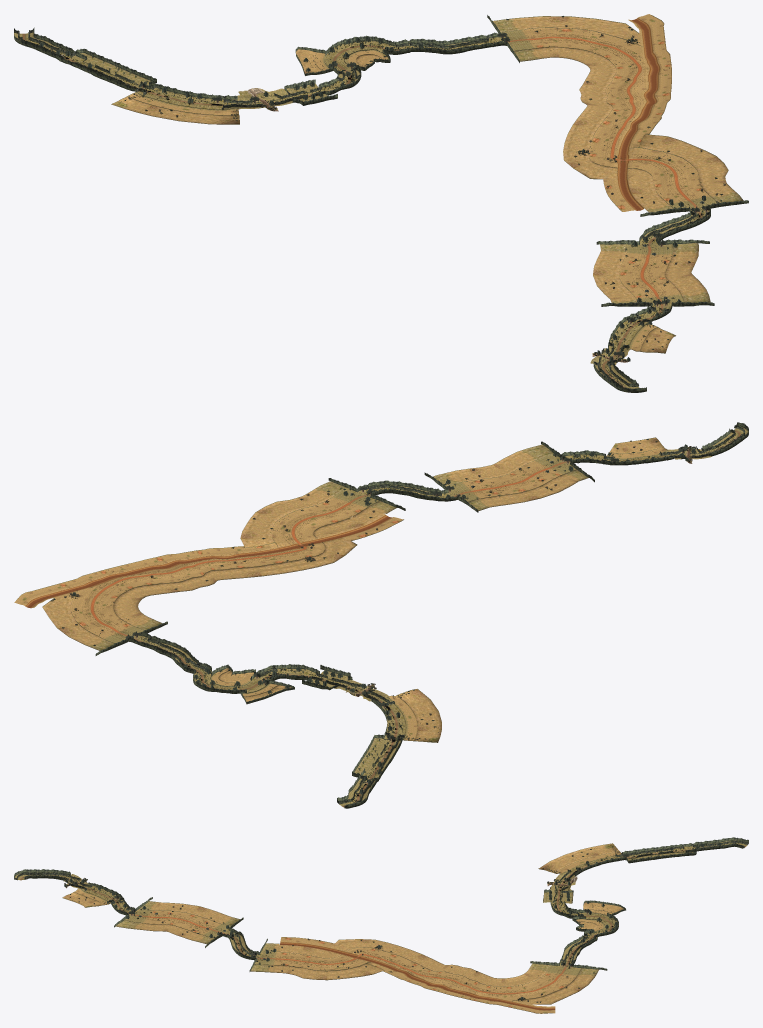
The model's file is kenya_stage1_visual.glb.
3 views of the same model, one above another, from view 1: azimuth 30°, elevation 25°; view 2: azimuth 150°, elevation 25°; view 3: azimuth 270°, elevation 25° (orthographic). The views are drawn at different scales.
Visible parts, largest first — view 1: Track_Road_And_Terrain, Foliage_And_Vegetation; view 2: Track_Road_And_Terrain, Foliage_And_Vegetation; view 3: Track_Road_And_Terrain, Foliage_And_Vegetation.
Boxes of the visible parts, x1,y1,x2,y2 form: Track_Road_And_Terrain: (14, 14, 748, 392); Foliage_And_Vegetation: (21, 16, 725, 384); Track_Road_And_Terrain: (14, 422, 748, 808); Foliage_And_Vegetation: (50, 438, 733, 802); Track_Road_And_Terrain: (14, 837, 748, 1013); Foliage_And_Vegetation: (33, 842, 738, 1005).
Size of the model in its own units: 1672 by 29.54 by 3006.
Materials: 46 (46 with a texture image).
